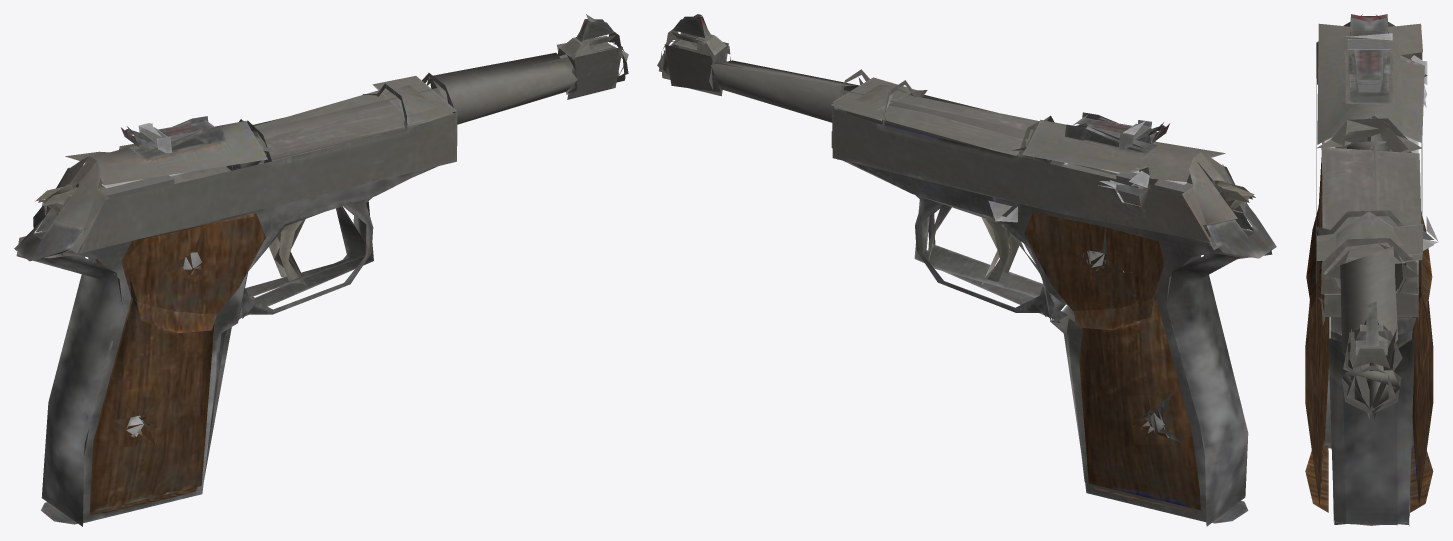
Rendered from service_pistol.gltf.
3 views of the same model, side by side, from view 1: azimuth 30°, elevation 25°; view 2: azimuth 150°, elevation 25°; view 3: azimuth 270°, elevation 25° (orthographic). The views are drawn at different scales.
Visible parts, largest first — view 1: service_pistol; view 2: service_pistol; view 3: service_pistol.
Part boxes in pixels (x1=…): service_pistol: x1=14, y1=14, x2=628, y2=526; service_pistol: x1=657, y1=14, x2=1276, y2=526; service_pistol: x1=1305, y1=14, x2=1438, y2=525.
Bounding box in the file's own units: 0.2224 × 0.1303 × 0.0329.
Materials: 1 (1 with a texture image).
